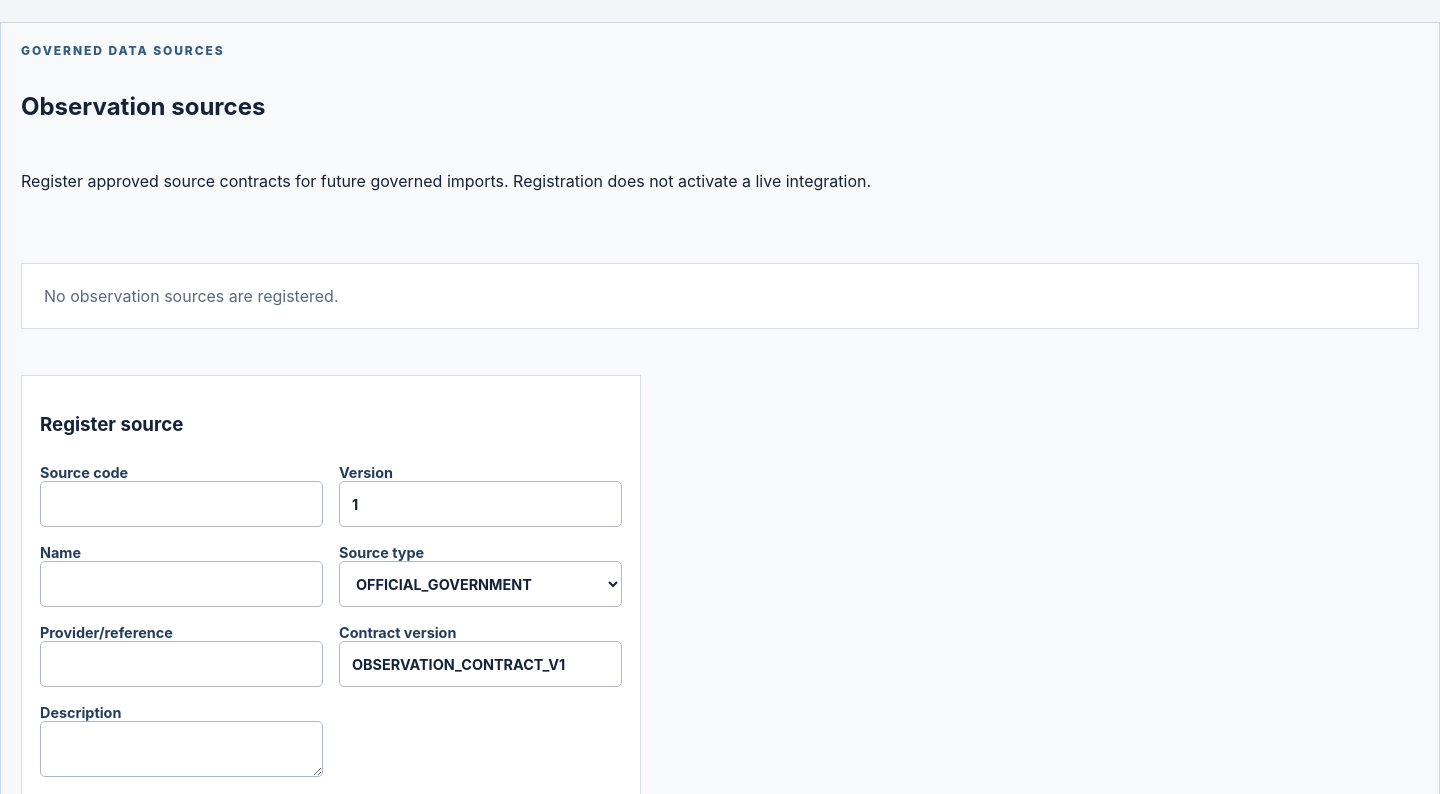
Test: observation source administration › shows controlled API failure without breaking the registry
The image size is (1440, 794).
Check: the text "No observation sources are registered." is shown, box [21,263,1419,329]
In the field labelled "Source code": (182, 504) [40,481,323,527], type "WX"
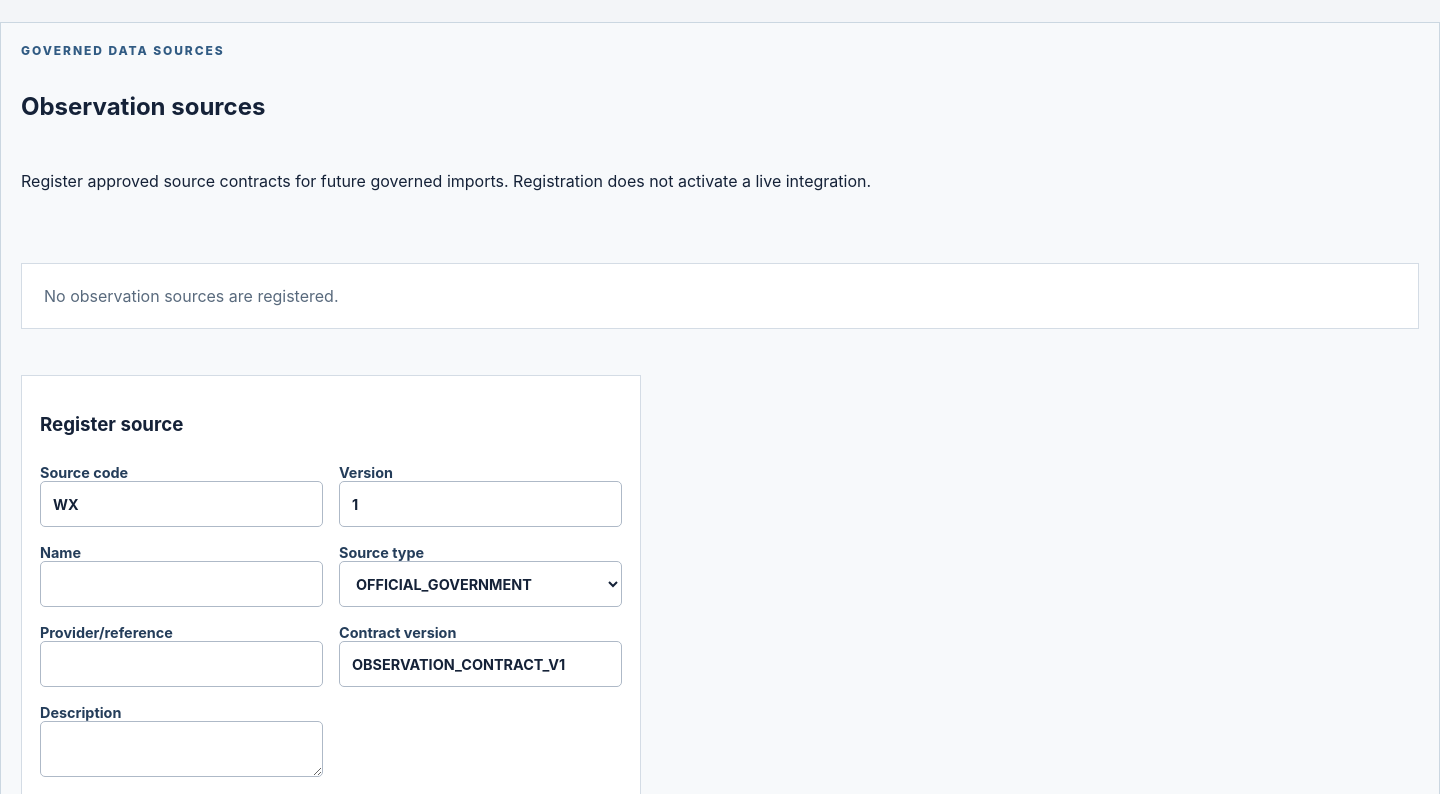
In the field labelled "Name": (182, 584) [40,561,323,607], type "Weather"
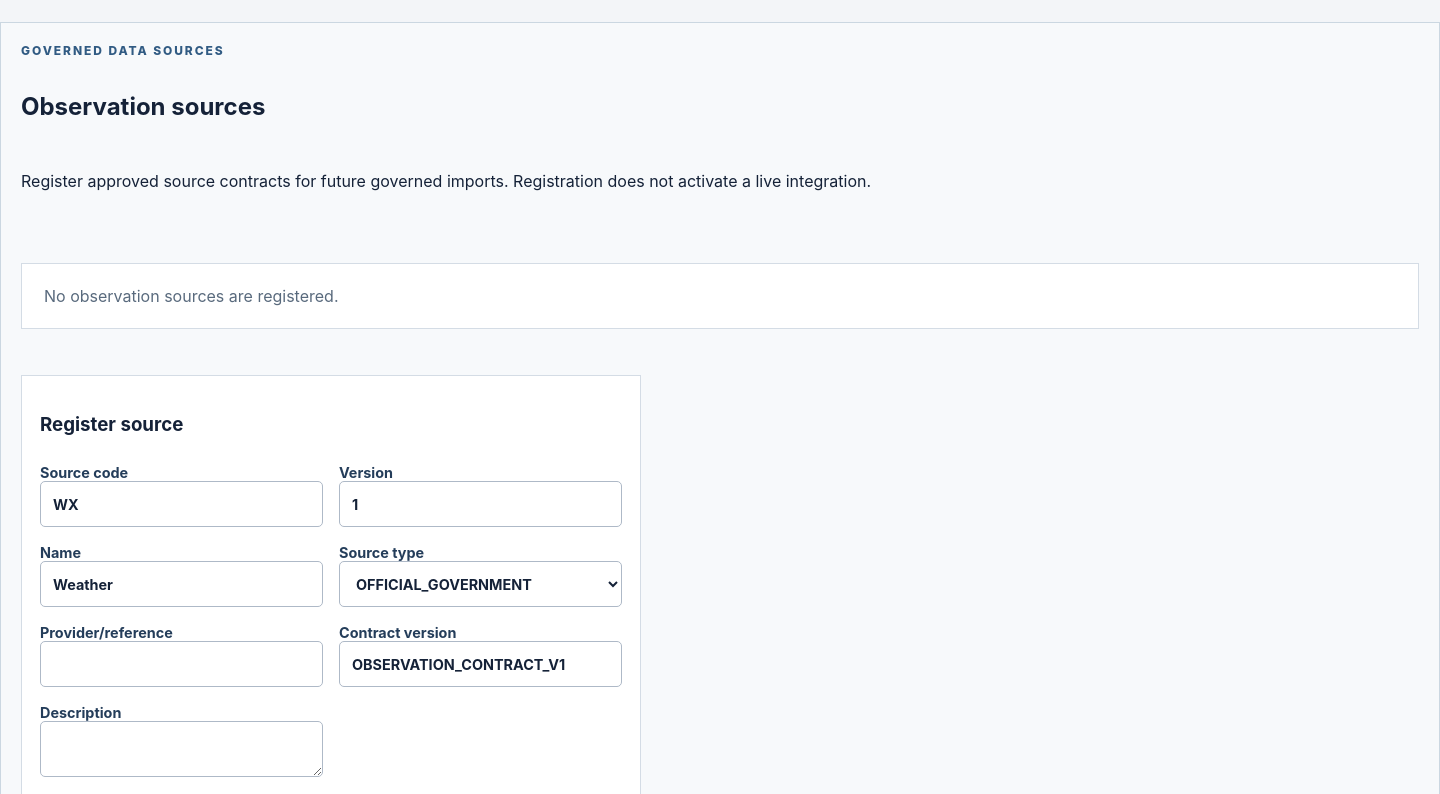
In the field labelled "Provider/reference": (182, 664) [40,641,323,687], type "official"
(page scrolled)
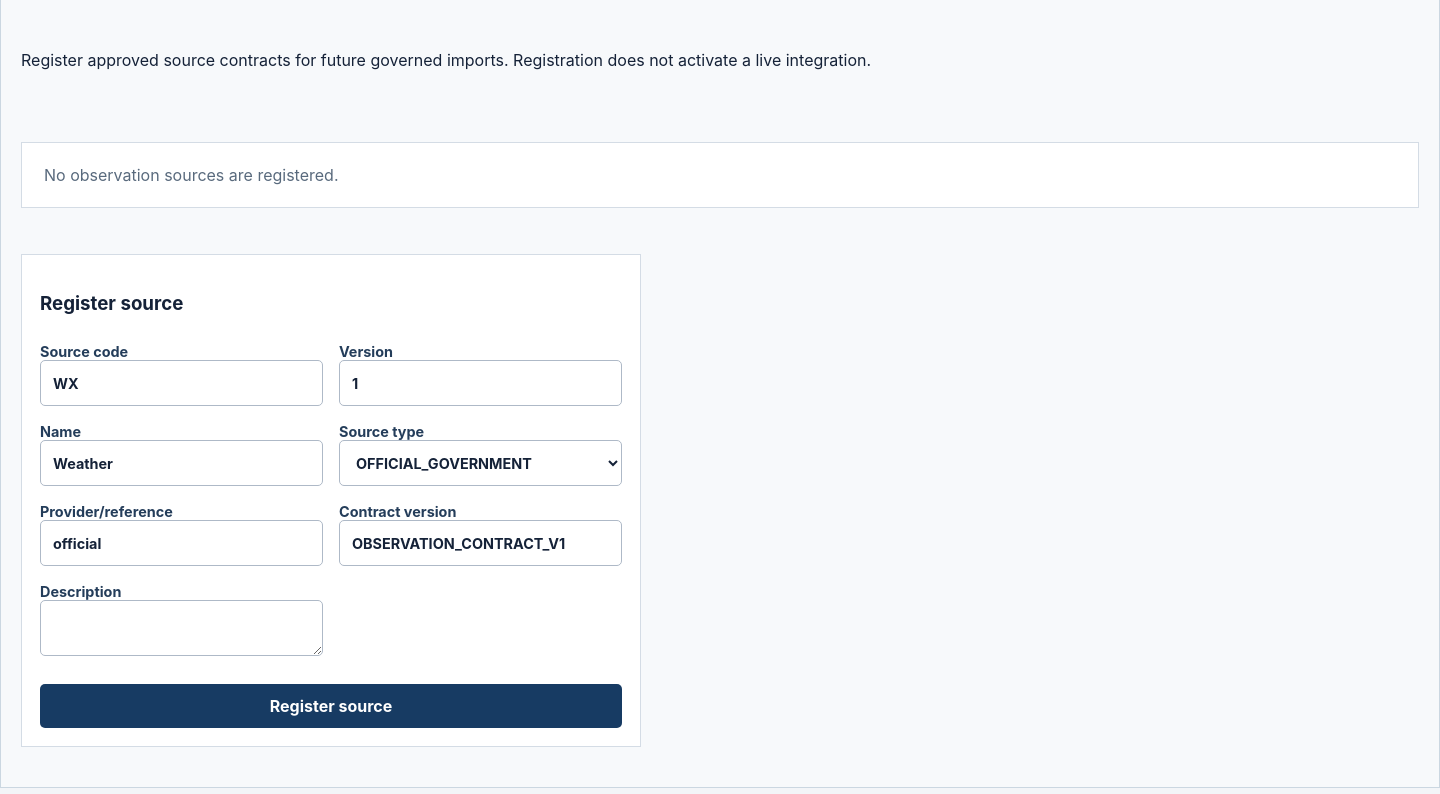
Click the button "Register source": (331, 706) [40,684,622,728]
(page scrolled)
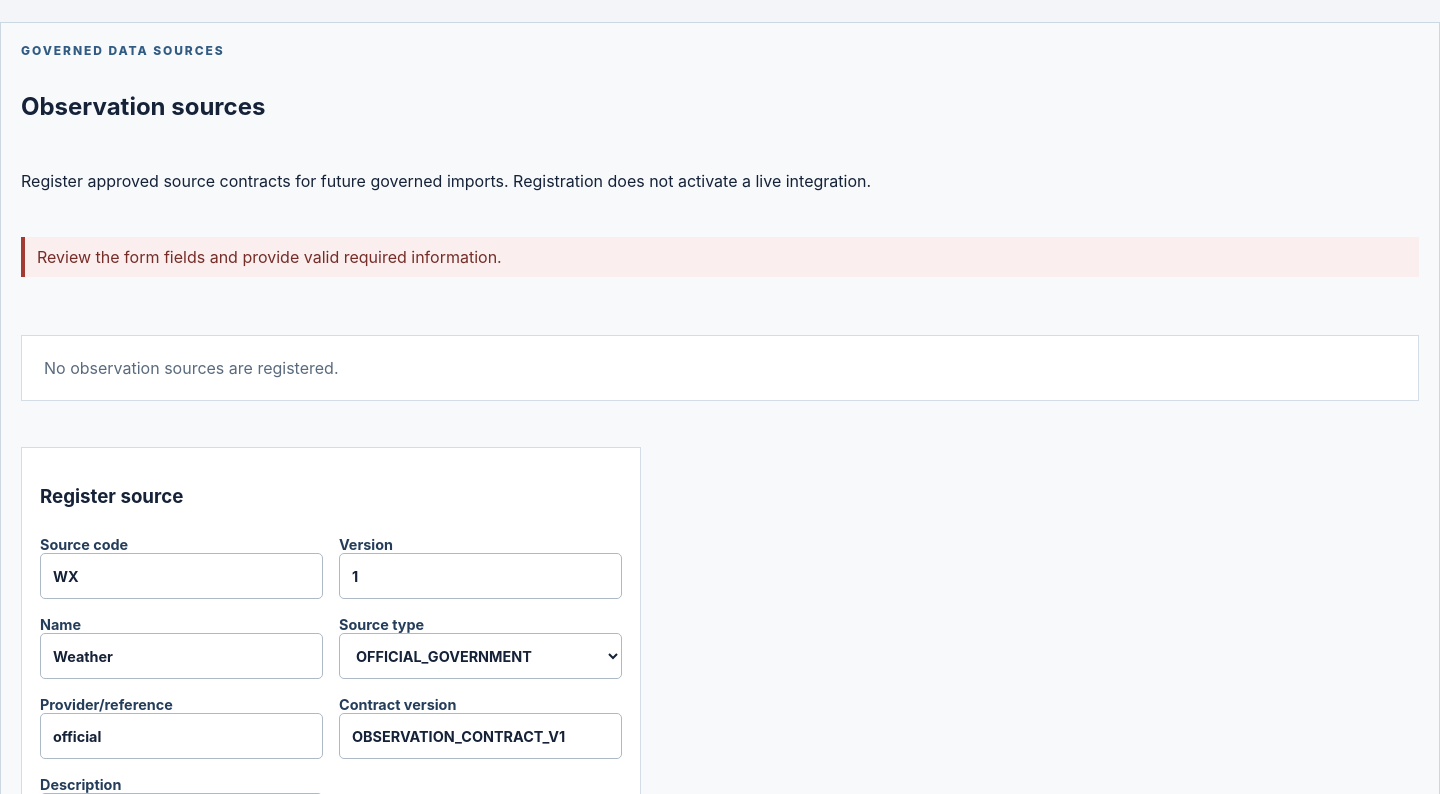
Check: the heading "Observation sources" is shown, box [21,92,265,121]
Check: the text "Review the form fields and provide valid required information." is shown, box [21,237,1419,277]
